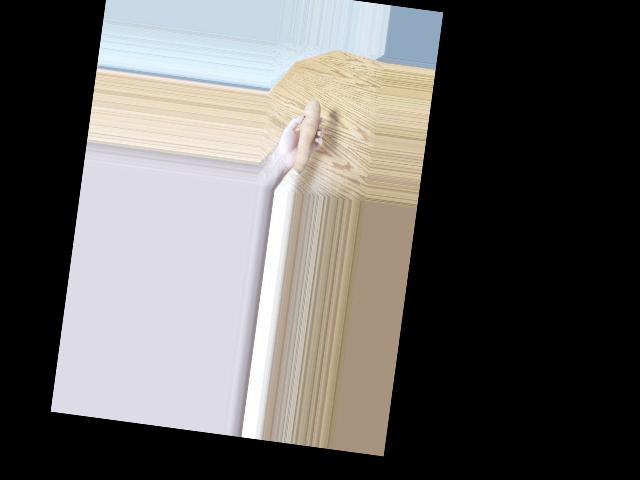sweet_potato: (294, 95, 327, 174)
